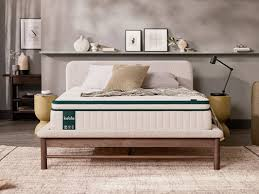bed-matress: (50, 83, 213, 131)
